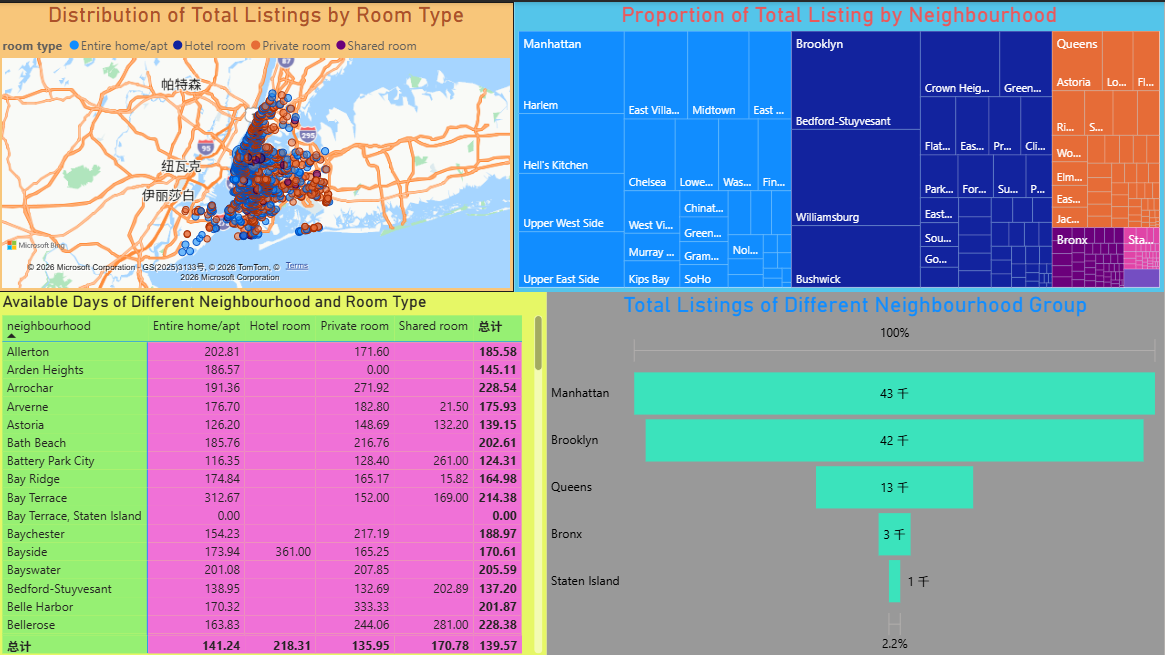

The page's visual inventory and layout, read from the dashboard file:
{"tool":"powerbi","page":{"name":"Listing & Neighbourhood Group","canvas":[1280,720],"ordinal":2},"visuals":[{"type":"map","title":"Distribution of Total Listings by Room Type","fields":{"Y":["FactListings.lat"],"X":["FactListings.long"],"Size":["FactListings.Total Listings"],"Series":["DimRoom.room type"]},"box":[0,0,566.7,318.4],"z":0},{"type":"treemap","title":"Proportion of Total Listing by Neighbourhood","fields":{"Group":["DimLocation.neighbourhood group"],"Details":["DimLocation.neighbourhood"],"Values":["FactListings.Total Listings"]},"box":[566.7,0,713.6,318.4],"z":1000},{"type":"pivotTable","title":"Available Days of Different Neighbourhood and Room Type","fields":{"Rows":["DimLocation.neighbourhood"],"Columns":["DimRoom.room type"],"Values":["FactListings.Average Availabilty"]},"box":[0,318.4,602.4,402.1],"z":2000},{"type":"funnel","title":"Total Listings of Different Neighbourhood Group","fields":{"Category":["DimLocation.neighbourhood group"],"Y":["FactListings.Total Listings"]},"box":[602.4,318.4,677.9,402.1],"z":3000}]}

Visuals, with their boxes in screenshot pixels (x1, y1, x2, y2), scaled from the page's 1280x720 canvas onto the 1165x655 screenshot:
"Distribution of Total Listings by Room Type" map: [left=0, top=0, right=516, bottom=290]
"Proportion of Total Listing by Neighbourhood" treemap: [left=516, top=0, right=1164, bottom=290]
"Available Days of Different Neighbourhood and Room Type" pivotTable: [left=0, top=290, right=548, bottom=654]
"Total Listings of Different Neighbourhood Group" funnel: [left=548, top=290, right=1164, bottom=654]
